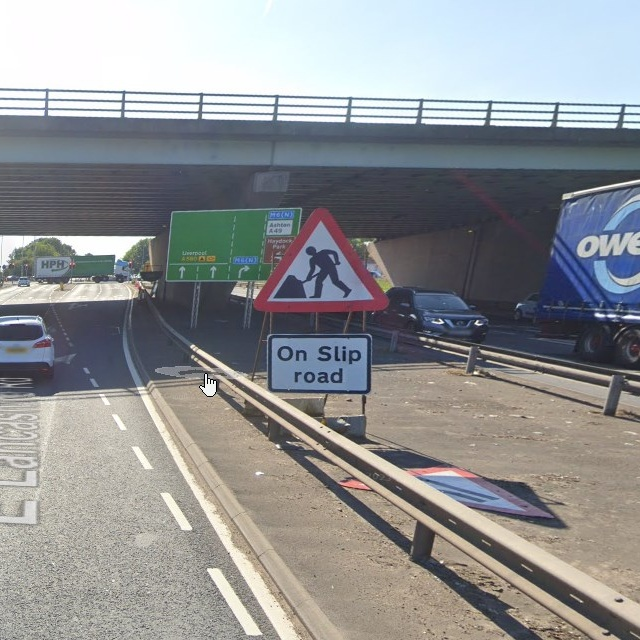Roadworks: (249, 203, 391, 313)
